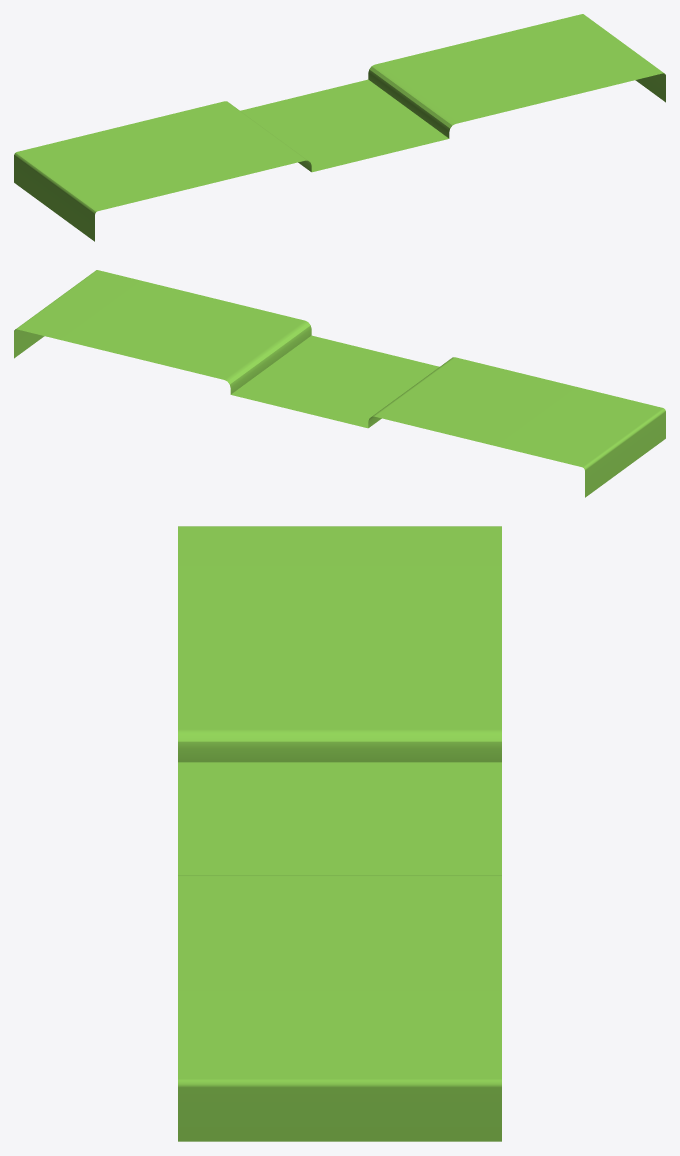
The model's file is new floor.fbx.
The picture shows the model from 3 angles, top to bottom: view 1: azimuth 30°, elevation 25°; view 2: azimuth 150°, elevation 25°; view 3: azimuth 270°, elevation 25°; orthographic projection. The views are drawn at different scales.
Parts seen in each view (by area): view 1: pCube2; view 2: pCube2; view 3: pCube2.
Boxes of the visible parts, x1,y1,x2,y2 form: pCube2: [14, 14, 665, 241]; pCube2: [14, 270, 665, 497]; pCube2: [178, 526, 501, 1141].
Size of the model in its own units: 24.12 by 1.21 by 5.93.
